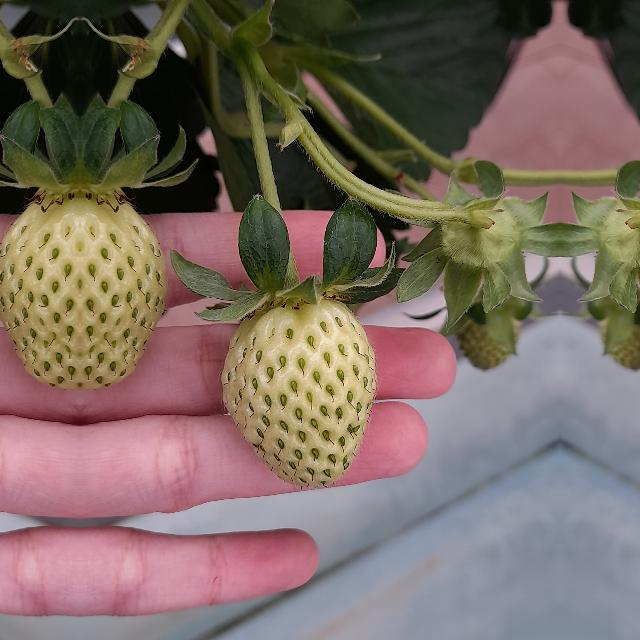Health_25: (222, 298, 376, 487), (80, 191, 168, 385), (0, 191, 80, 385)
